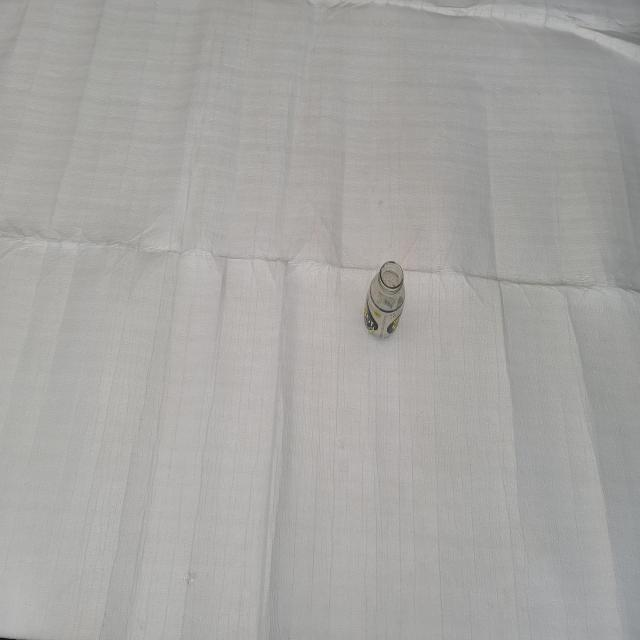glass: (365, 261, 406, 338)
